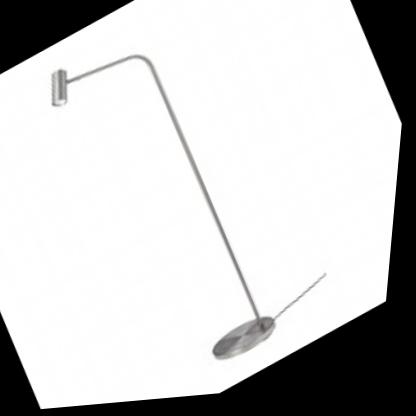Lamp: (9, 5, 318, 413)
